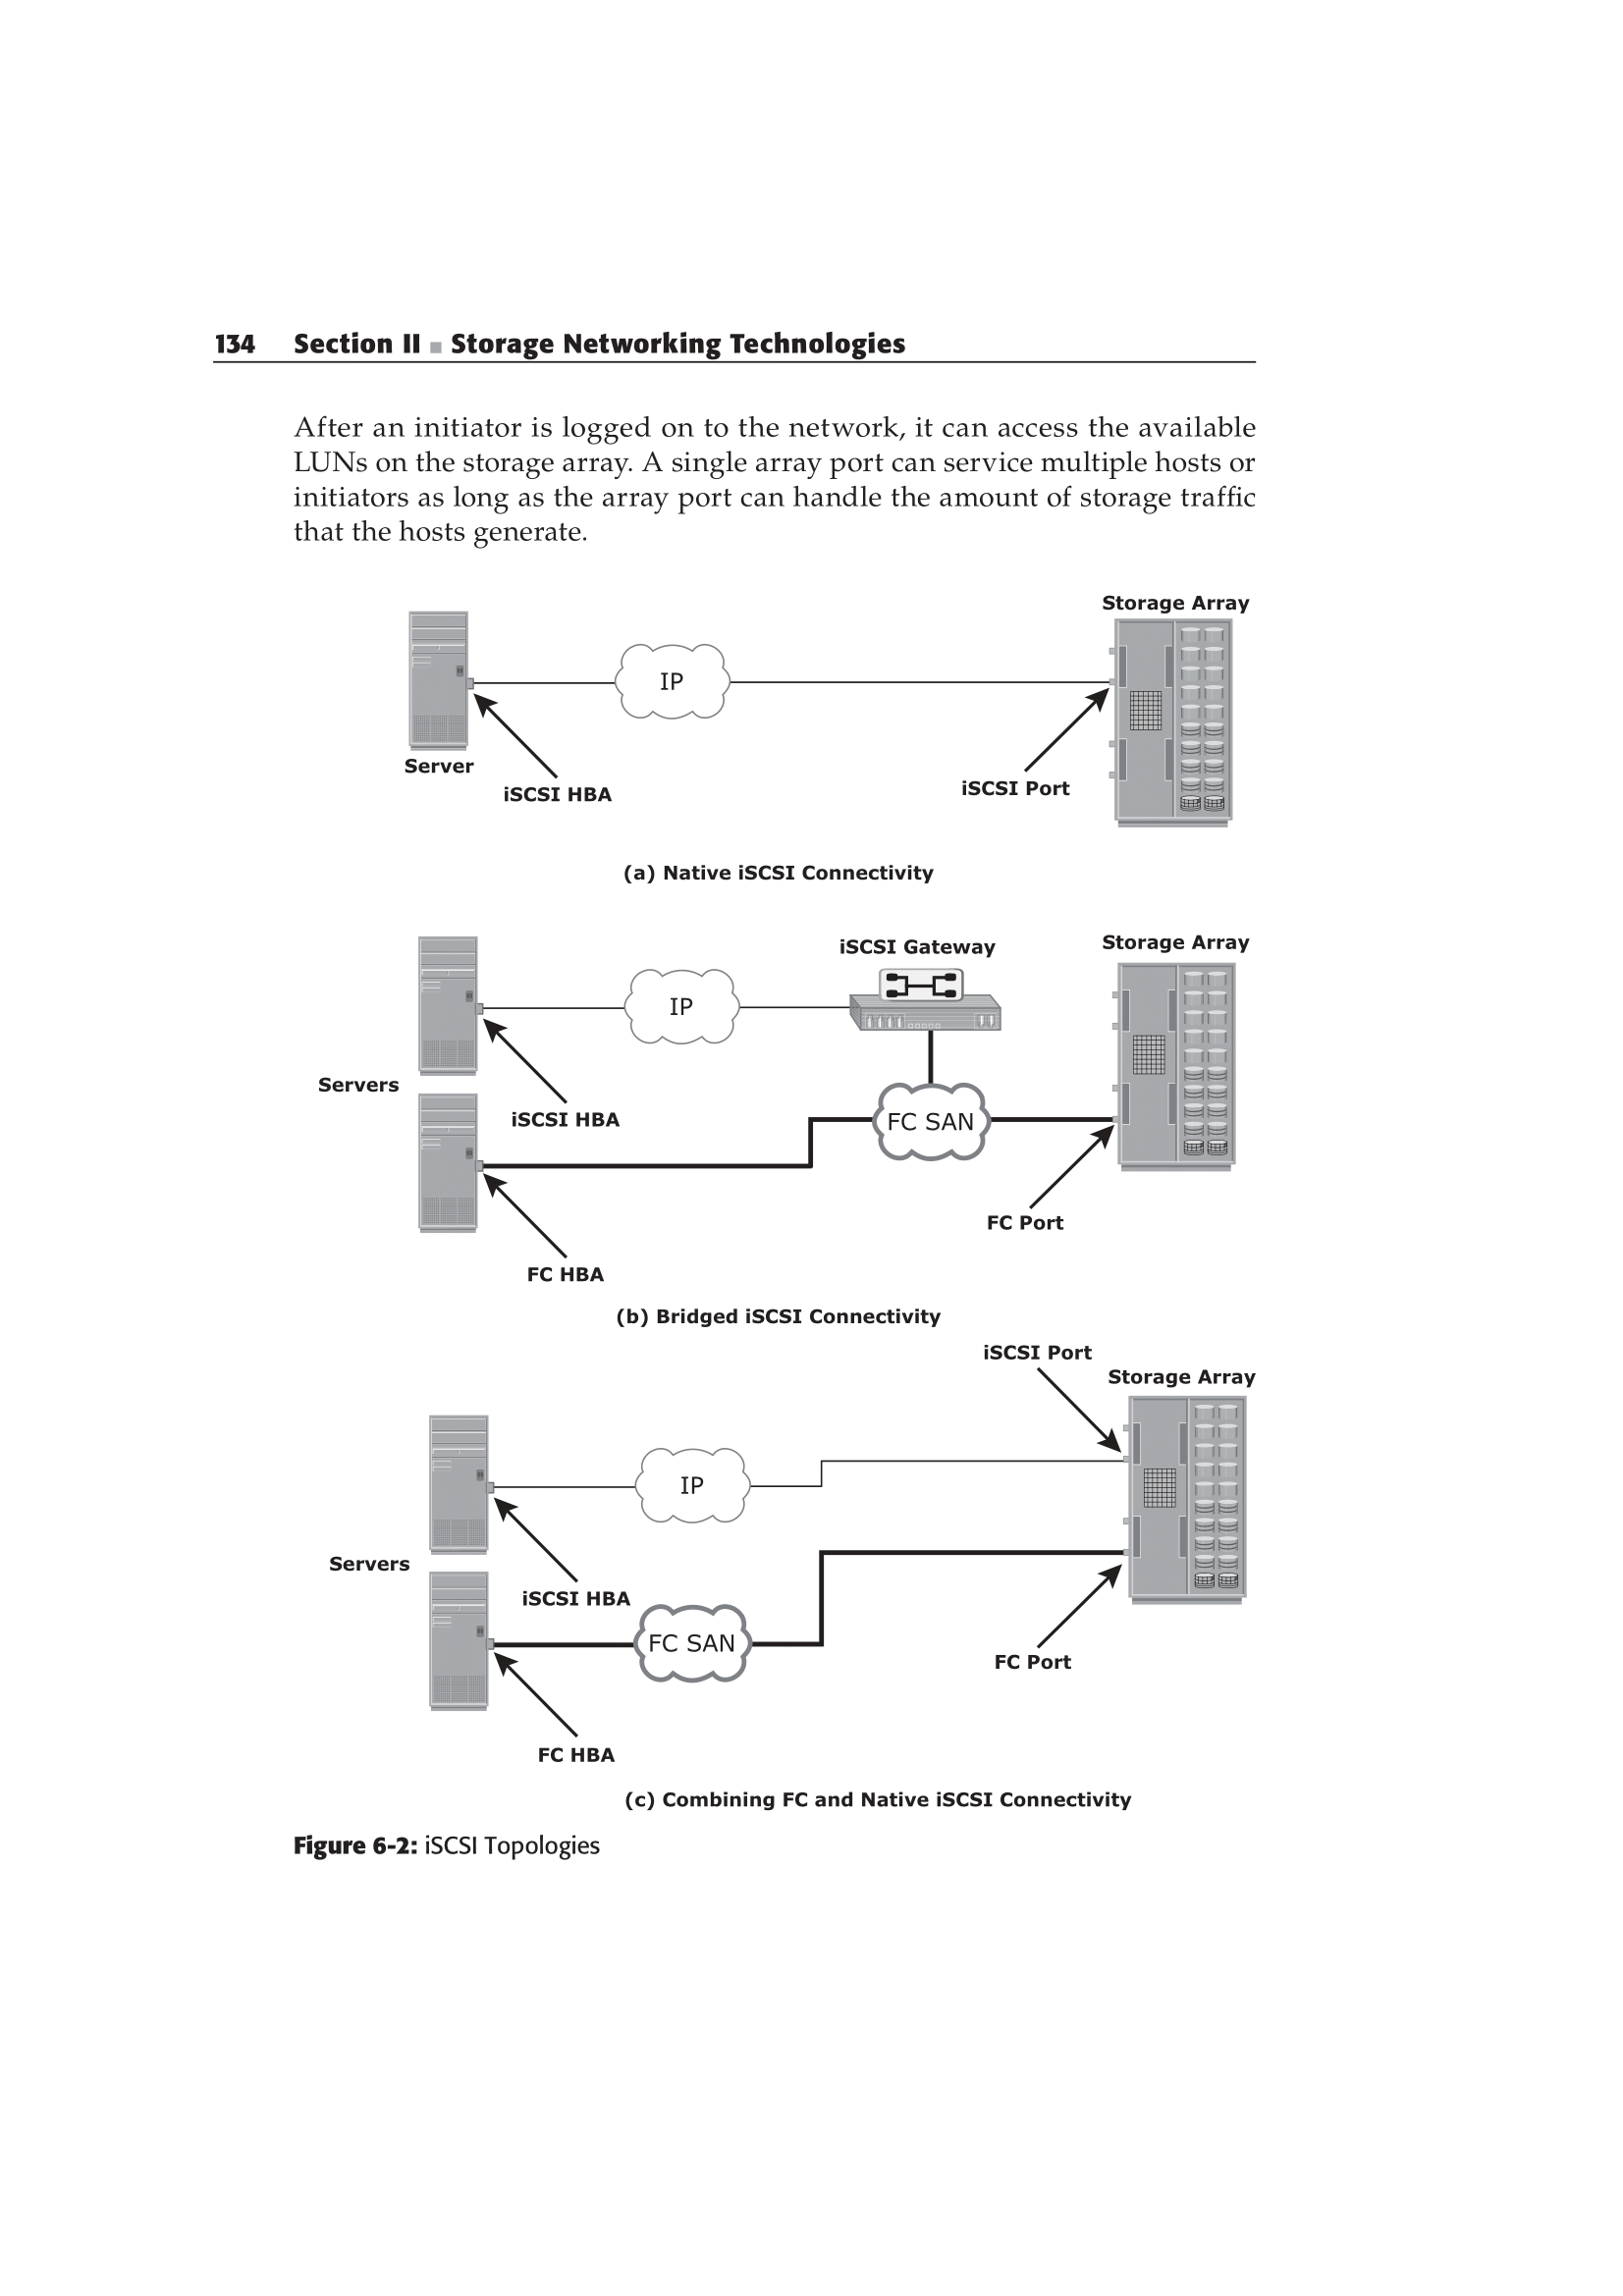Image: (292, 1352, 1351, 1817), (297, 913, 1333, 1346), (365, 593, 1273, 890)
Paragraph: (279, 393, 1279, 553), (188, 302, 940, 370), (283, 1831, 622, 1876)
